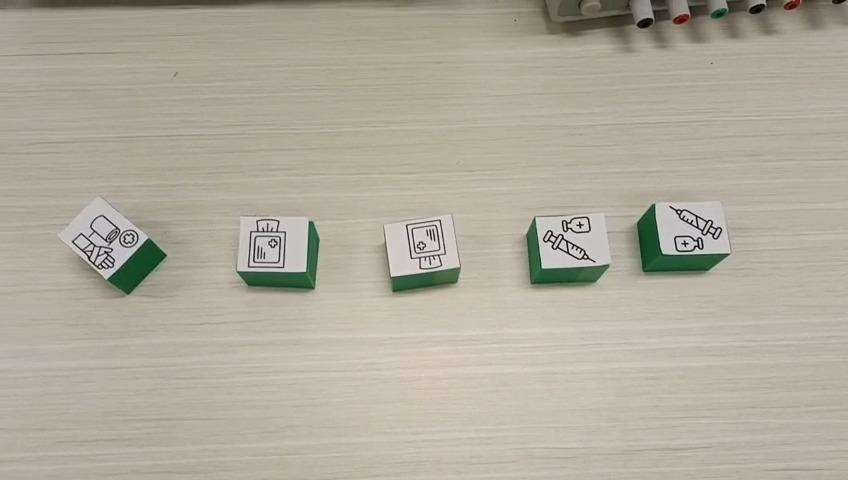Bandages: (55, 195, 167, 295)
Gauze: (381, 211, 461, 292), (235, 214, 319, 289)
antiseptic cream: (635, 200, 731, 273), (525, 212, 612, 284)
